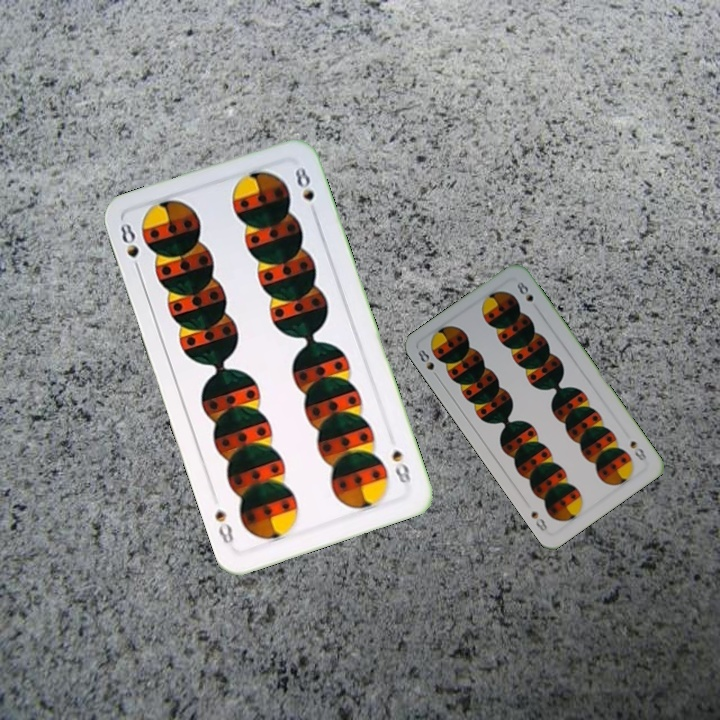S8: (116, 218, 144, 277), (387, 445, 414, 486), (414, 345, 442, 382), (626, 436, 650, 463)
